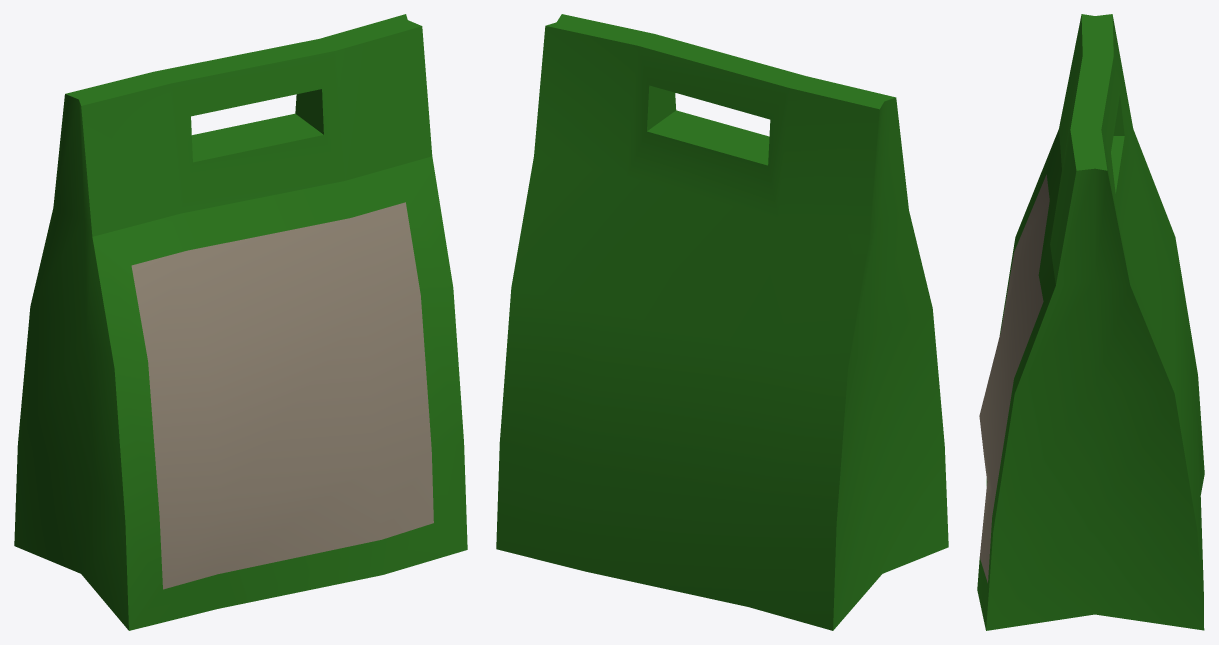
Rendered from bag_03.fbx.
3 views of the same model, side by side, from view 1: azimuth 30°, elevation 25°; view 2: azimuth 150°, elevation 25°; view 3: azimuth 270°, elevation 25° (orthographic). The views are drawn at different scales.
Visible parts, largest first — view 1: bag_03; view 2: bag_03; view 3: bag_03.
Boxes of the visible parts, bbox=[...] form: bag_03: bbox=[14, 14, 467, 630]; bag_03: bbox=[496, 14, 948, 630]; bag_03: bbox=[977, 14, 1204, 630].
Size of the model in its own units: 41.63 by 57.04 by 25.45.
